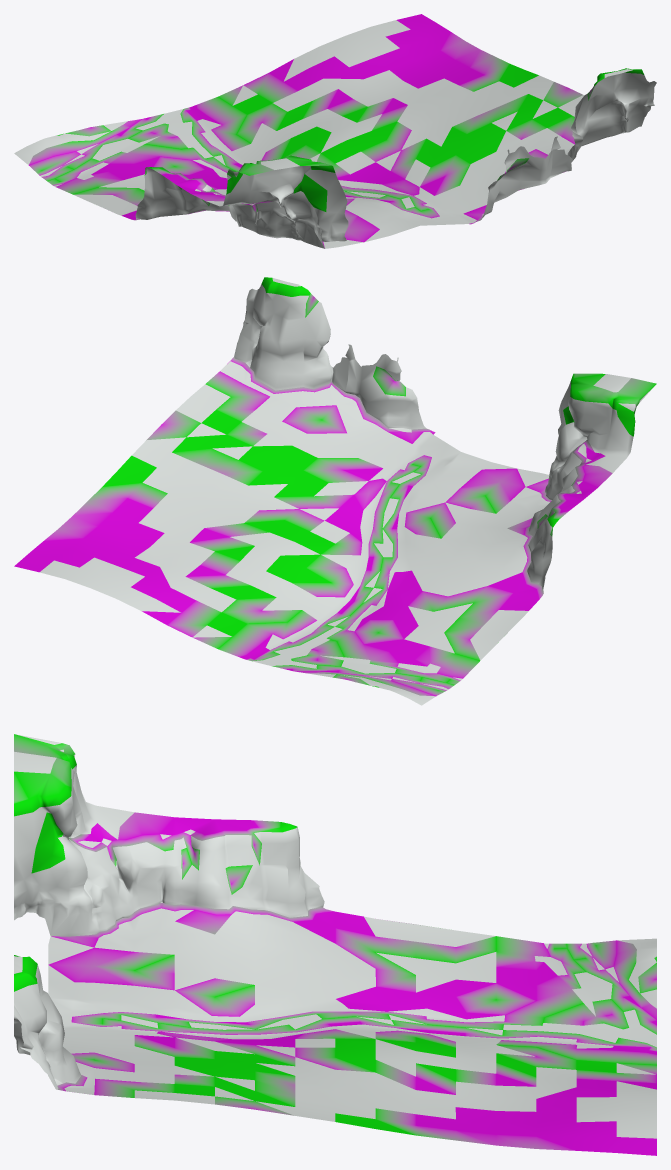
3 views of the same model, one above another, from view 1: azimuth 30°, elevation 25°; view 2: azimuth 150°, elevation 25°; view 3: azimuth 270°, elevation 25° (orthographic). The views are drawn at different scales.
Parts seen in each view (by area): view 1: G:\FFXIV-MapTools\exports\f1f1\bg\ffxiv\fst_f1\fld\f1f1\bgpl (×12); view 2: G:\FFXIV-MapTools\exports\f1f1\bg\ffxiv\fst_f1\fld\f1f1\bgpl (×12); view 3: G:\FFXIV-MapTools\exports\f1f1\bg\ffxiv\fst_f1\fld\f1f1\bgpl (×12).
Boxes of the visible parts, x1,y1,x2,y2 form: G:\FFXIV-MapTools\exports\f1f1\bg\ffxiv\fst_f1\fld\f1f1\bgpl (×12): [14, 14, 656, 248]; G:\FFXIV-MapTools\exports\f1f1\bg\ffxiv\fst_f1\fld\f1f1\bgpl (×12): [14, 277, 656, 705]; G:\FFXIV-MapTools\exports\f1f1\bg\ffxiv\fst_f1\fld\f1f1\bgpl (×12): [14, 734, 656, 1155].
Size of the model in its own units: 128 by 49.68 by 128.
